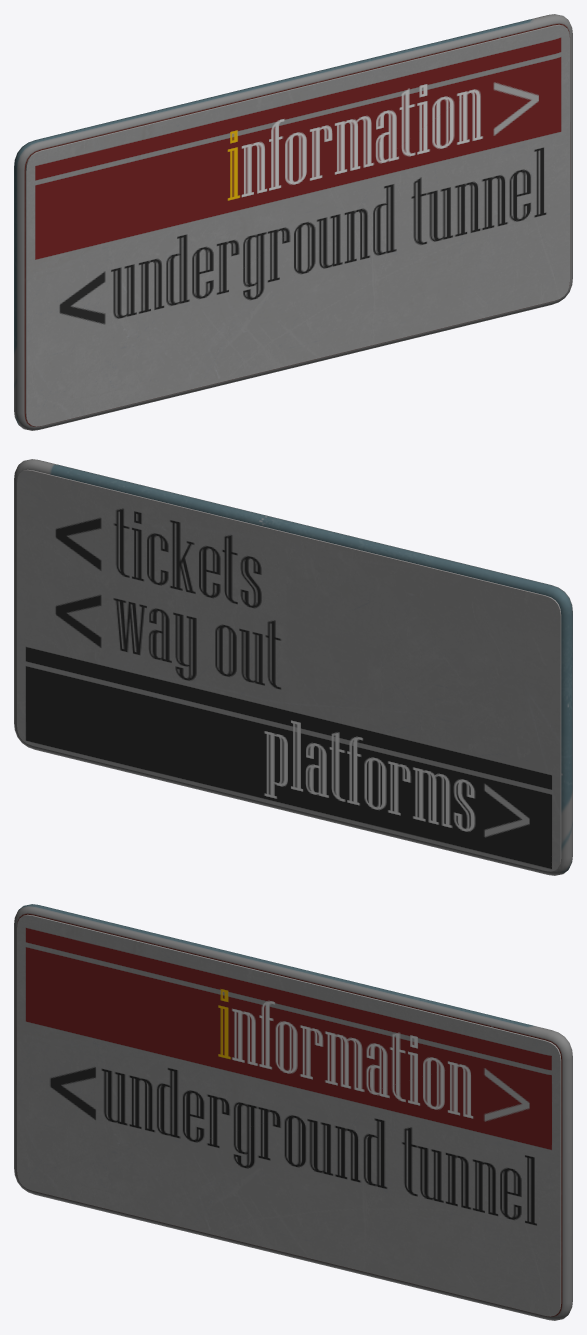
The model's file is SM_Sign4.FBX.
The picture shows the model from 3 angles, top to bottom: view 1: azimuth 30°, elevation 25°; view 2: azimuth 150°, elevation 25°; view 3: azimuth 330°, elevation 25°; orthographic projection.
Visible parts, largest first — view 1: SM_Sign4; view 2: SM_Sign4; view 3: SM_Sign4.
Part boxes in pixels (box(x1,y1,x2,y2)): SM_Sign4: box(14, 14, 572, 430); SM_Sign4: box(14, 459, 572, 875); SM_Sign4: box(14, 904, 572, 1320).
Size of the model in its own units: 102 by 3 by 50.79.
